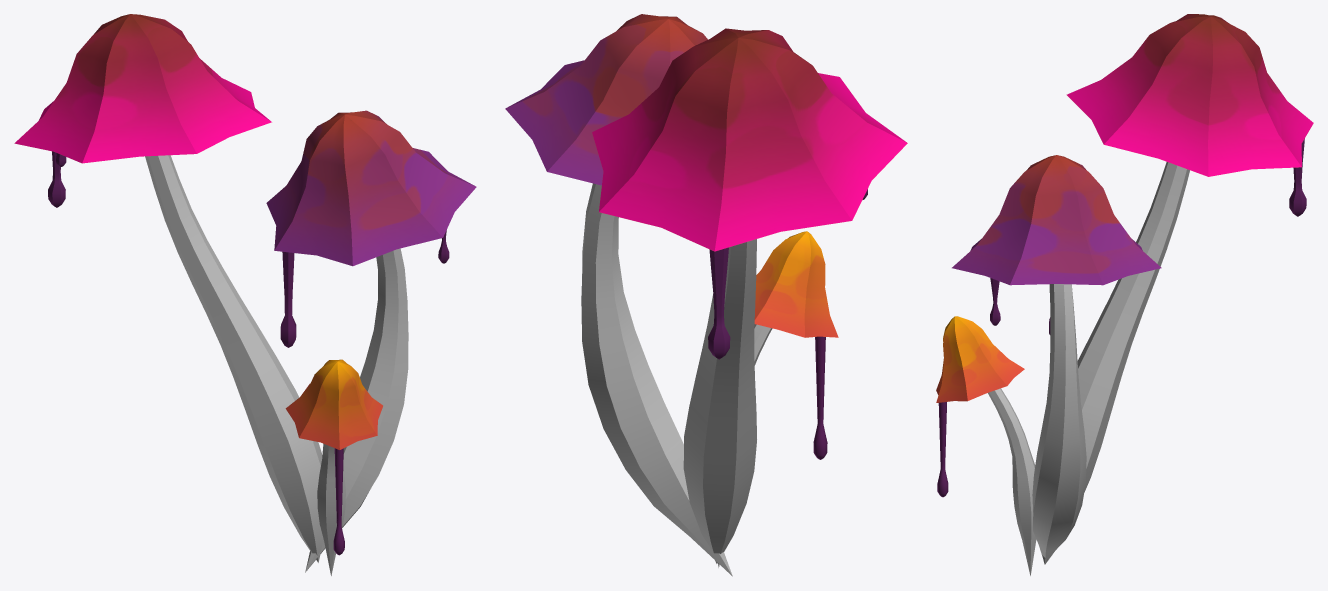
Rendered from Small Mushroom 3.obj.
3 renders of one model, left to right at view 1: azimuth 30°, elevation 25°; view 2: azimuth 150°, elevation 25°; view 3: azimuth 270°, elevation 25°, orthographic. The views are drawn at different scales.
Bounding box in the file's own units: 38.73 × 55.61 × 37.41.
